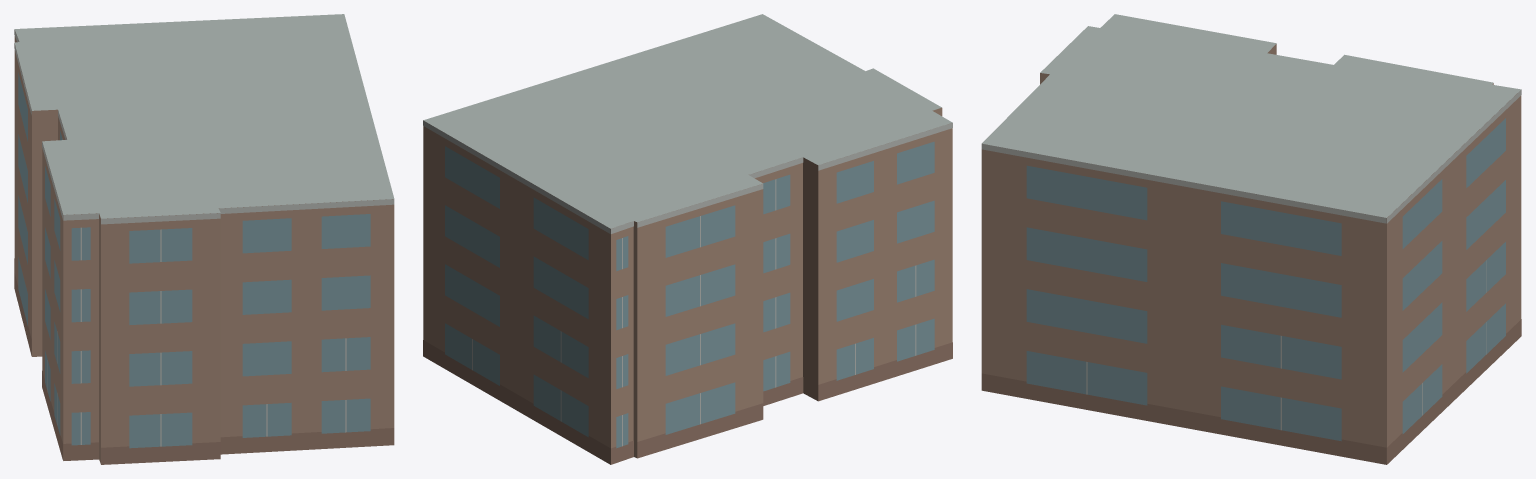
File: survey-upis-32780443.glb
3 renders of one model, left to right at view 1: azimuth 30°, elevation 25°; view 2: azimuth 150°, elevation 25°; view 3: azimuth 270°, elevation 25°, orthographic. The views are drawn at different scales.
Visible parts, largest first — view 1: survey-upis-32780443.tmp; view 2: survey-upis-32780443.tmp; view 3: survey-upis-32780443.tmp.
Part boxes in pixels (x1,y1,x2,y2): survey-upis-32780443.tmp: (14, 14, 394, 464); survey-upis-32780443.tmp: (423, 14, 952, 464); survey-upis-32780443.tmp: (981, 14, 1521, 464).
Size of the model in its own units: 18.61 by 10.5 by 20.82.
